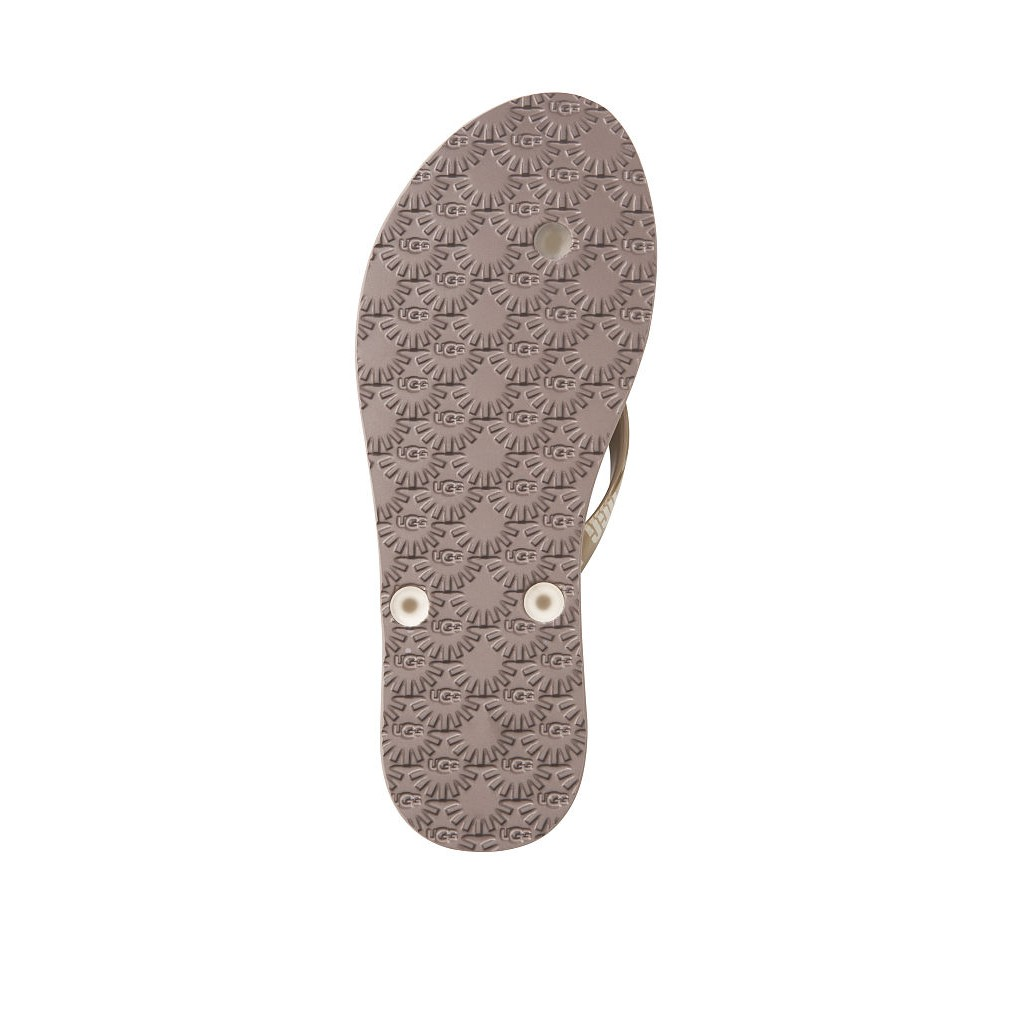flip_flops: (350, 92, 661, 850)
